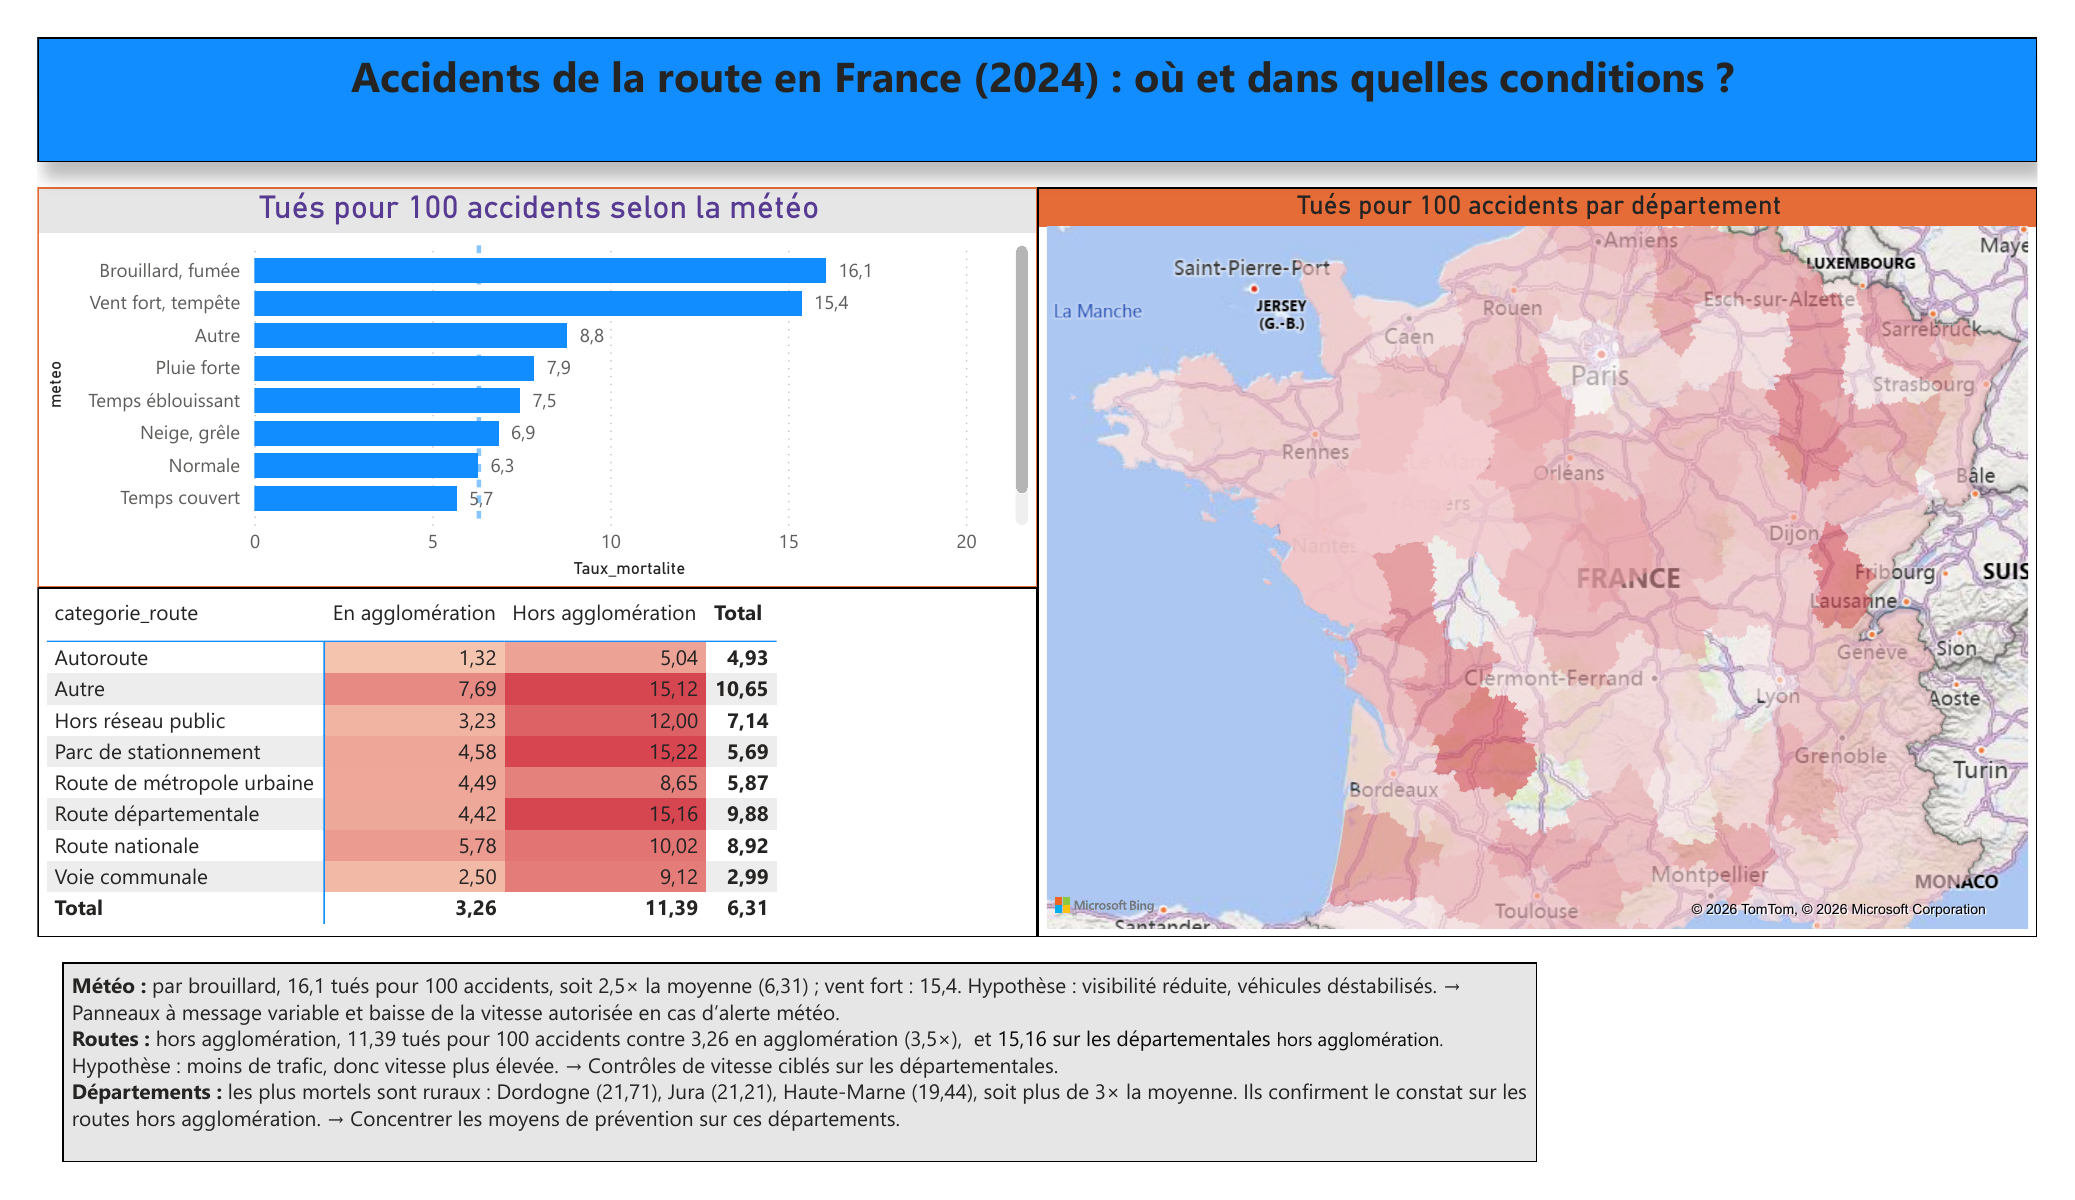

The page's visual inventory and layout, read from the dashboard file:
{"tool":"powerbi","page":{"name":"Où et dans quelles conditions ?","canvas":[1280,720],"ordinal":1},"visuals":[{"type":"barChart","title":"Tués pour 100 accidents selon la météo","fields":{"Y":["carat.Taux_mortalite"],"Category":["carat.meteo"]},"box":[0,96,576,256],"z":0},{"type":"pivotTable","fields":{"Values":["carat.Taux_mortalite"],"Rows":["lieu.categorie_route"],"Columns":["carat.agglomeration"]},"box":[0,352,576,224],"z":1000},{"type":"filledMap","title":"Tués pour 100 accidents par département","fields":{"Category":["departements.lieu_carte"]},"box":[688,96,592,480],"z":2000},{"type":"textbox","box":[16,592,944,128],"z":3000},{"type":"textbox","box":[0,0,1280,80],"z":3001}]}

Visuals, with their boxes on the page's 1280x720 design canvas (x1, y1, x2, y2). These are canvas units, not pixel positions in the 2075x1200 screenshot, which may show the page scaled, cropped or inside an application window:
"Tués pour 100 accidents selon la météo" barChart: [0, 96, 576, 352]
pivotTable - carat.Taux_mortalite x lieu.categorie_route: [0, 352, 576, 576]
"Tués pour 100 accidents par département" filledMap: [688, 96, 1280, 576]
textbox: [16, 592, 960, 720]
textbox: [0, 0, 1280, 80]
